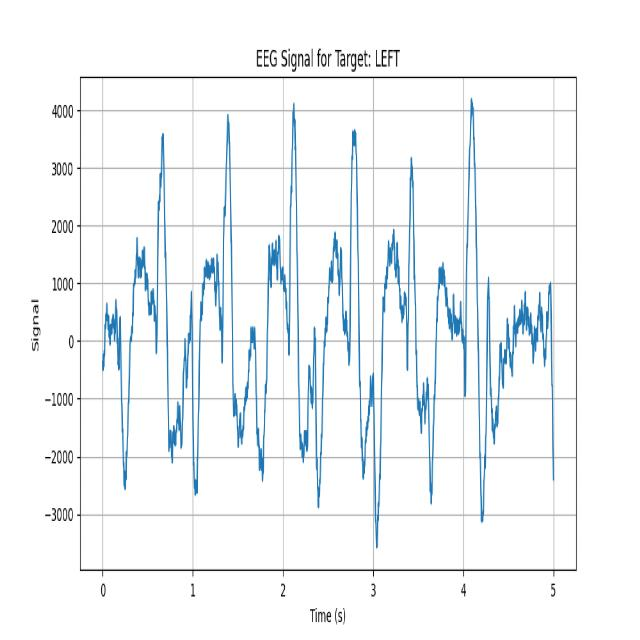LEFT: (255, 110, 333, 513), (332, 104, 393, 561), (124, 112, 191, 516), (393, 105, 450, 555), (191, 112, 255, 508), (449, 102, 498, 546)
